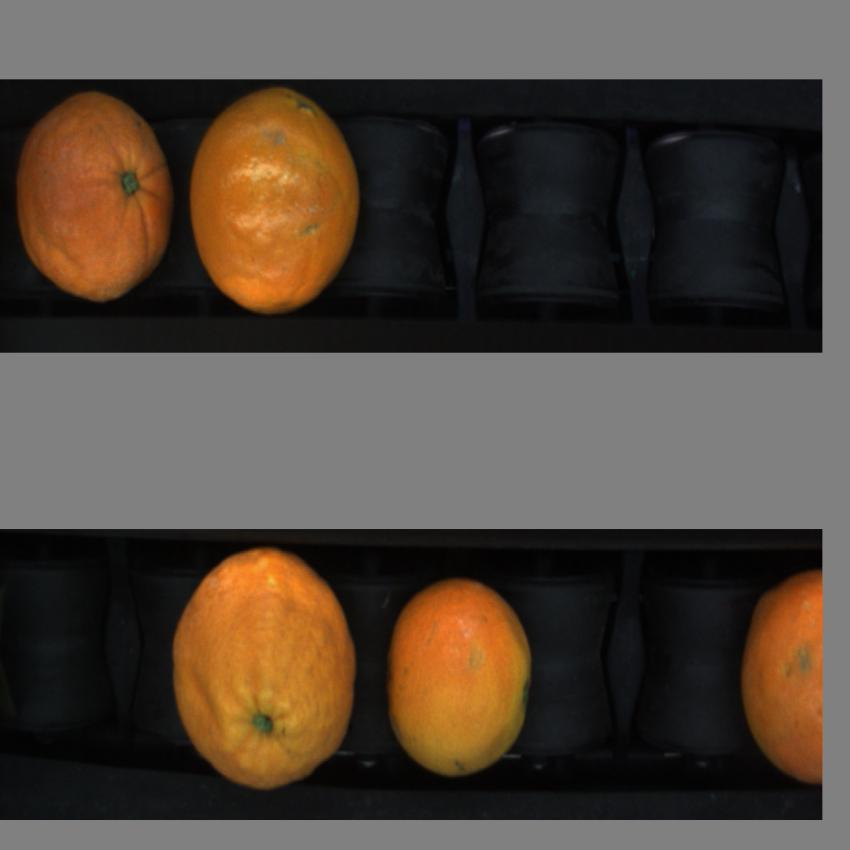Buen estado: (173, 550, 364, 794), (740, 564, 823, 799)
Mal estado: (187, 87, 362, 319), (388, 574, 541, 788), (17, 96, 176, 301)
